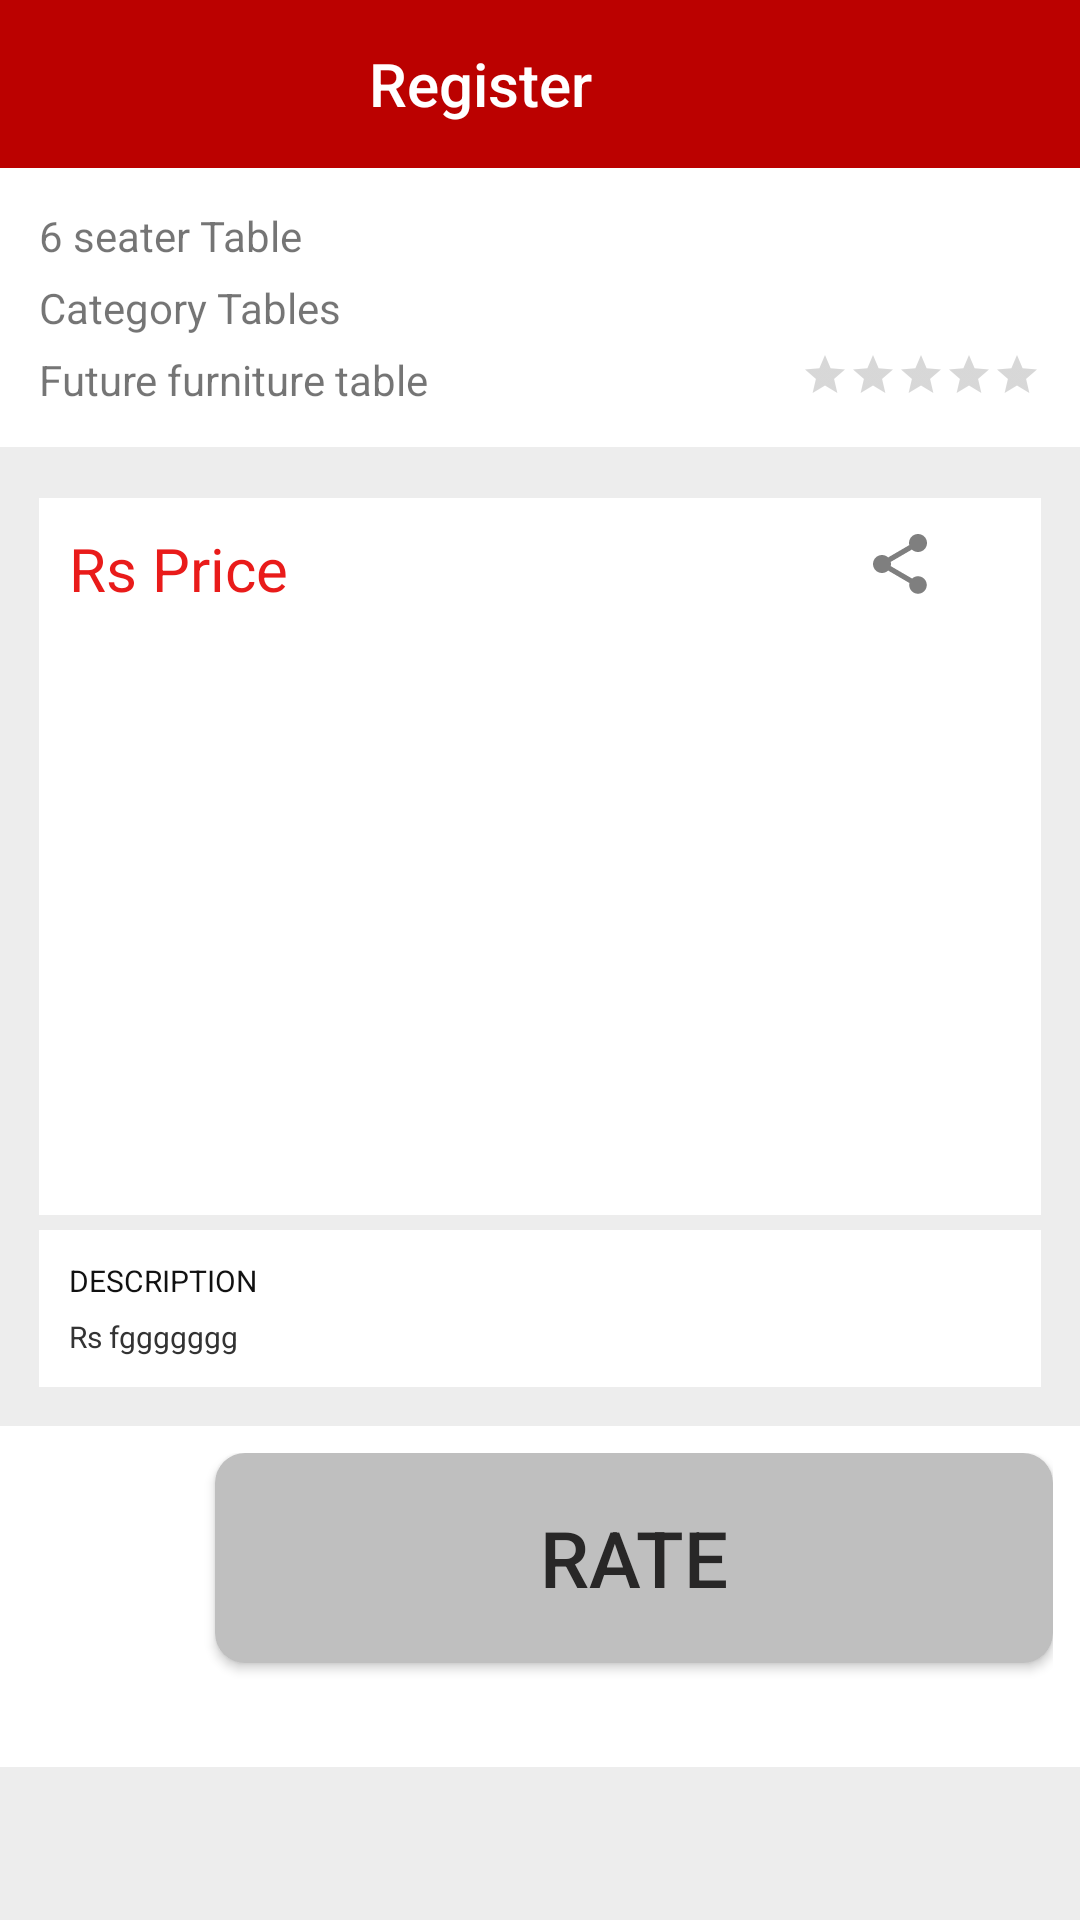

Named icons in this screenshot (1080px×1920px) and their centers, (x,y):
share product detailed: (900,564)
